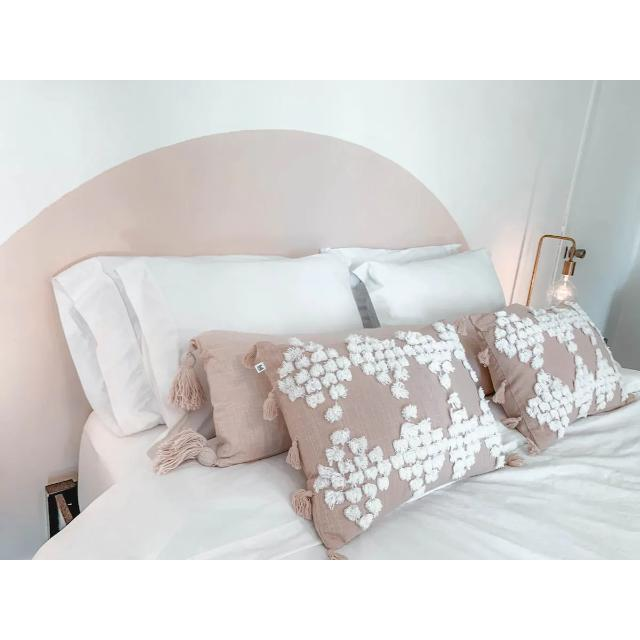pillow: (256, 319, 524, 554), (117, 248, 368, 429), (473, 292, 639, 452), (194, 333, 330, 466), (356, 243, 516, 327)
